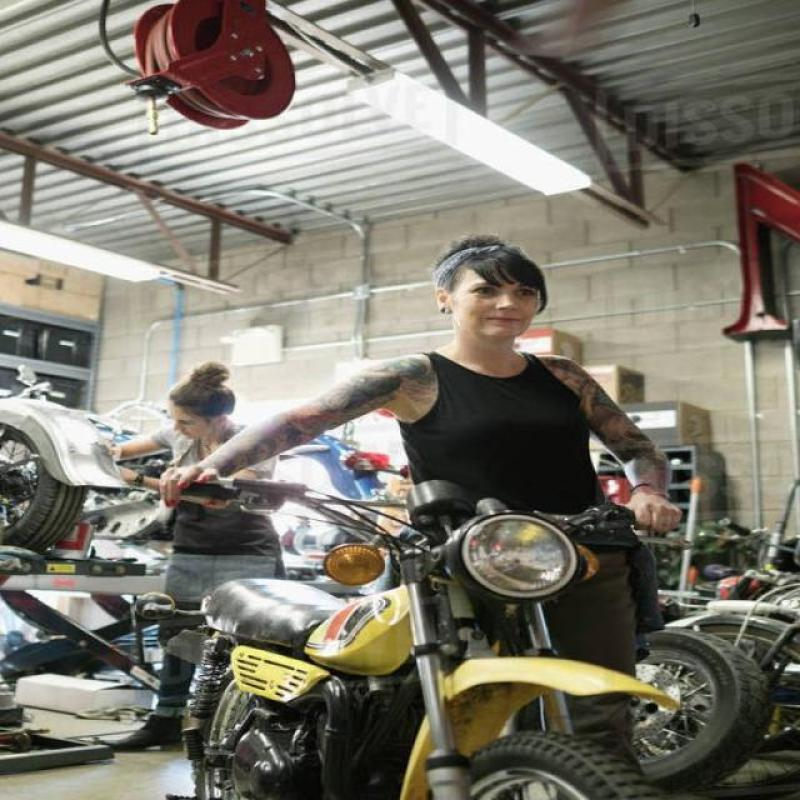nohelmet: (400, 239, 590, 345)
